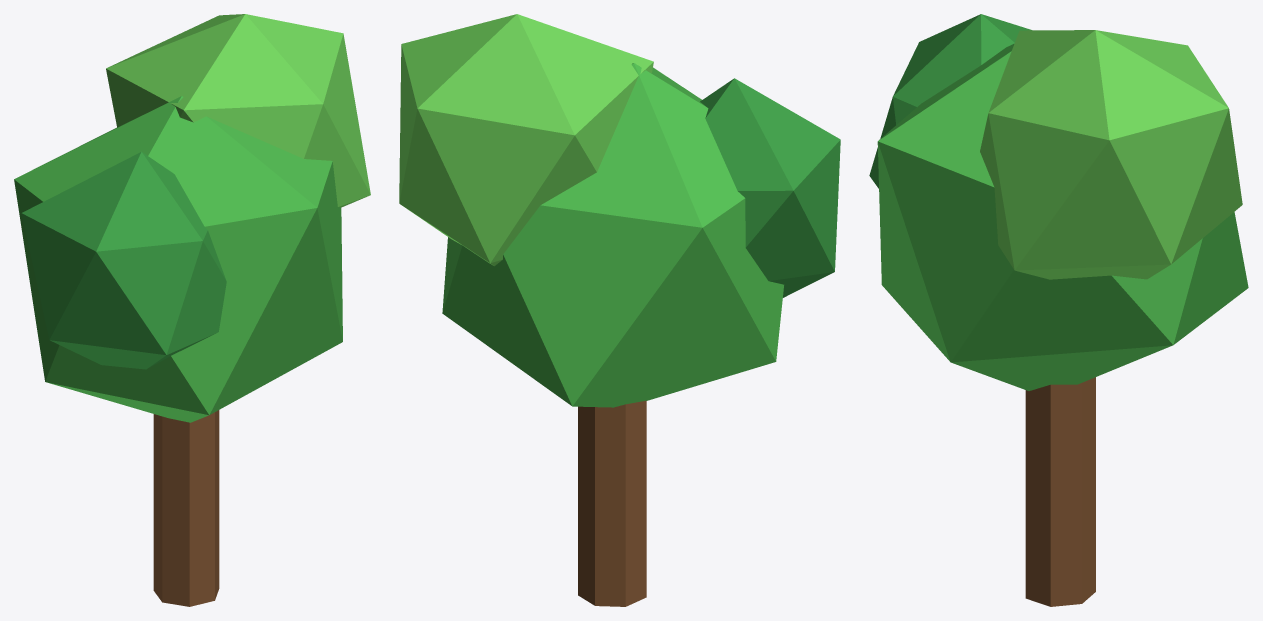
The model's file is RoundTree.fbx.
3 renders of one model, left to right at view 1: azimuth 30°, elevation 25°; view 2: azimuth 150°, elevation 25°; view 3: azimuth 270°, elevation 25°, orthographic. The views are drawn at different scales.
Visible parts, largest first — view 1: RoundTree; view 2: RoundTree; view 3: RoundTree.
Part boxes in pixels (x1,y1,x2,y2): RoundTree: (14, 14, 370, 606); RoundTree: (399, 14, 840, 606); RoundTree: (869, 14, 1248, 606).
Size of the model in its own units: 9.7 by 14.32 by 8.18.
1 material, 1 textured.
